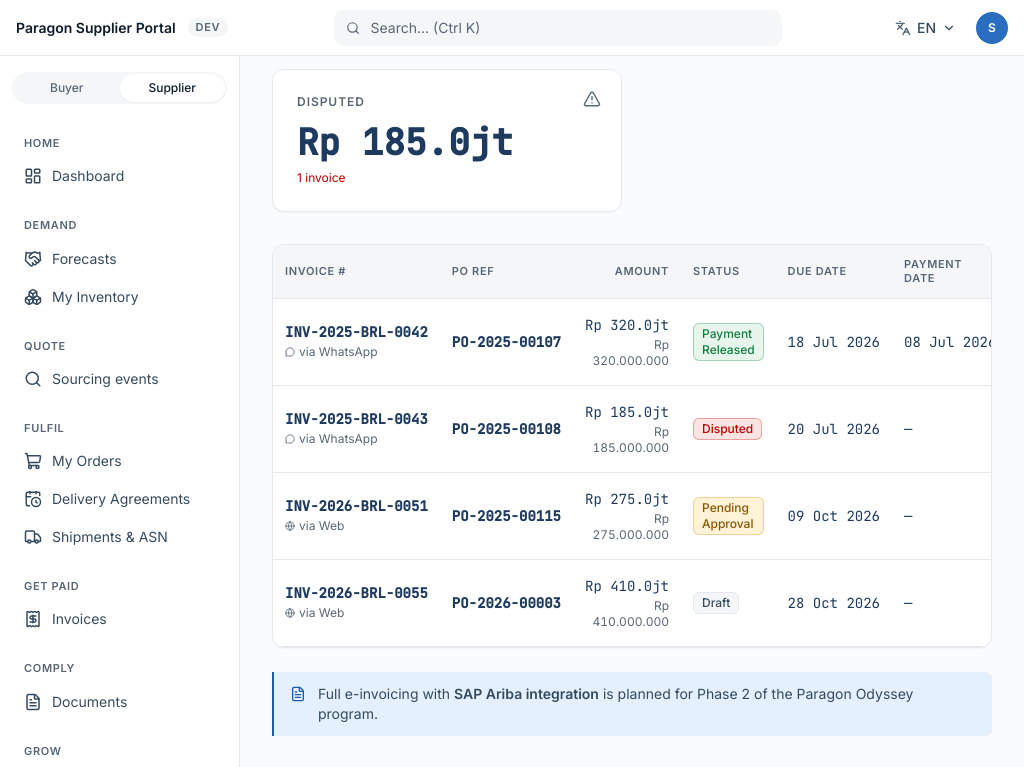
Test: S2b · SupplierInvoices — the supplier side, where the projection costs the most › ⚠️ an OVERDUE invoice says NOTHING — and its canonical state would have answered
(page scrolled)
Step 1. Click the text "INV-2026-BRL-0051" → [356, 506], box 285,496 -> 428,516
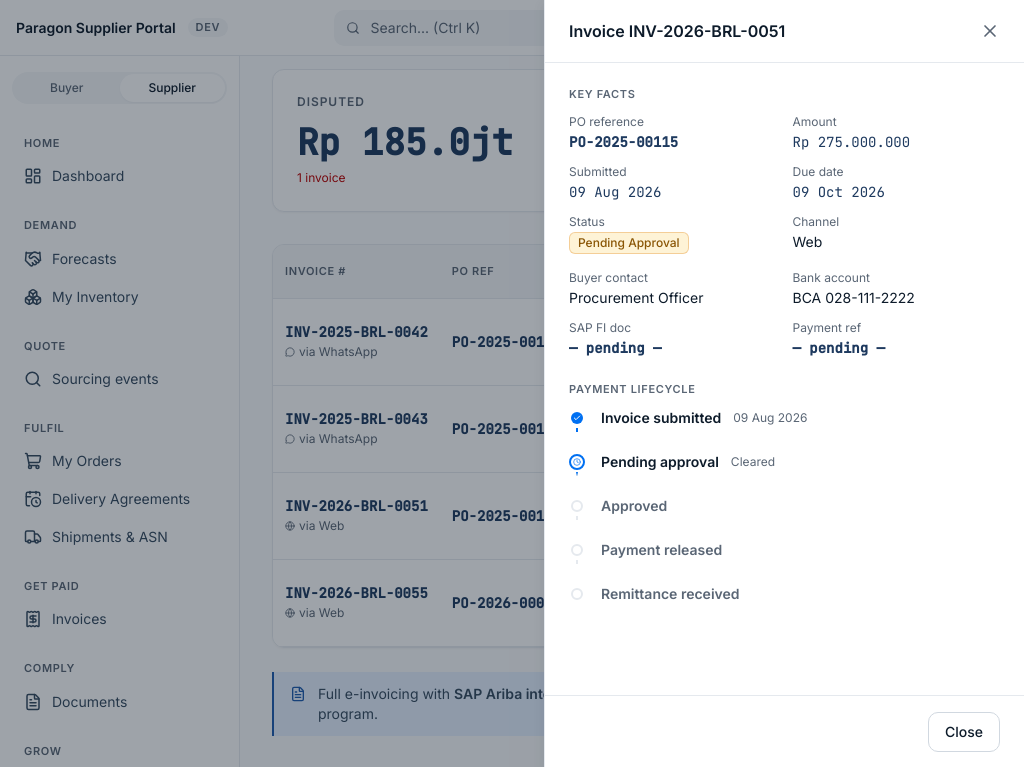
Check: the text "Buyer contact" is shown, box 569,270 -> 648,285
